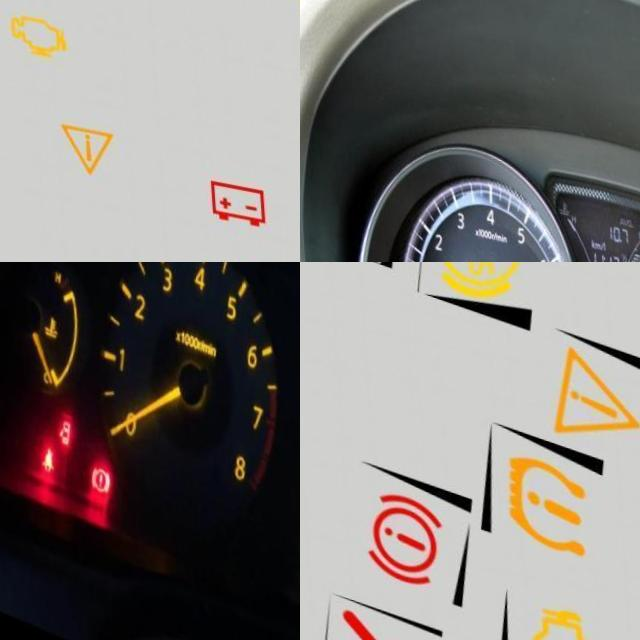Seat Belt: (36, 444, 49, 469)
